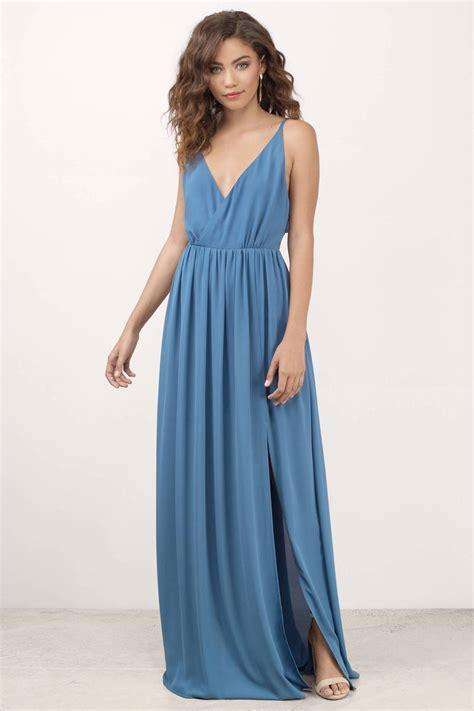dress: (156, 120, 359, 700)
